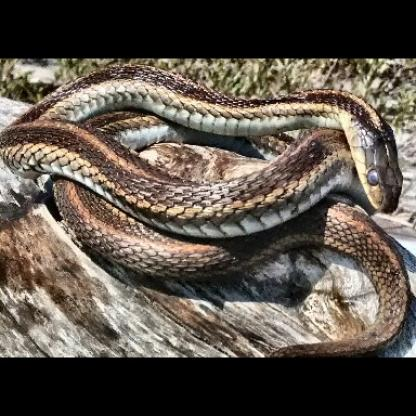Snake: (0, 58, 416, 296)
